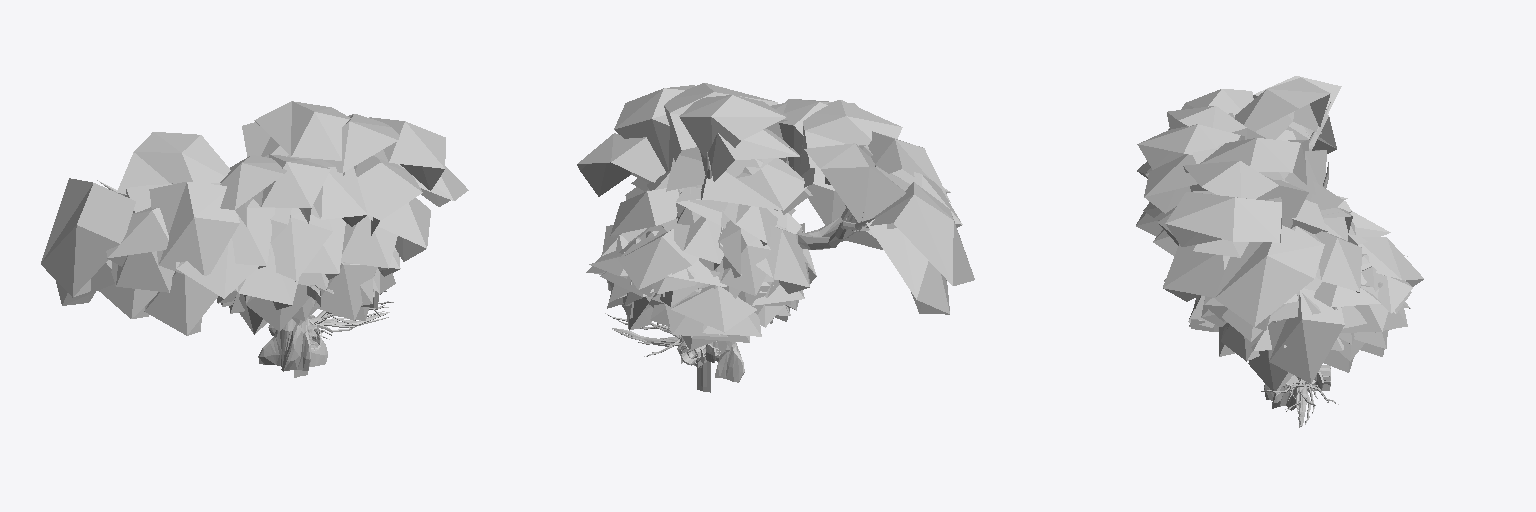
File: tree.obj
3 renders of one model, left to right at view 1: azimuth 30°, elevation 25°; view 2: azimuth 150°, elevation 25°; view 3: azimuth 270°, elevation 25°, orthographic.
Parts seen in each view (by area): view 1: Plane.864_Plane.004, Plane.1060_Plane.003, branchmaster; view 2: Plane.864_Plane.004, Plane.1060_Plane.003, Plane.1000_Plane.024, branchmaster; view 3: Plane.864_Plane.004, Plane.1060_Plane.003, Plane.1000_Plane.024, branchmaster.
Part boxes in pixels (bbox=[...]): Plane.864_Plane.004: bbox=[41, 101, 468, 335]; Plane.1060_Plane.003: bbox=[218, 248, 399, 334]; branchmaster: bbox=[97, 180, 327, 371]; Plane.864_Plane.004: bbox=[577, 83, 974, 314]; Plane.1060_Plane.003: bbox=[607, 170, 816, 330]; Plane.1000_Plane.024: bbox=[586, 225, 804, 350]; branchmaster: bbox=[694, 152, 875, 382]; Plane.864_Plane.004: bbox=[1136, 76, 1343, 330]; Plane.1060_Plane.003: bbox=[1188, 196, 1423, 393]; Plane.1000_Plane.024: bbox=[1251, 254, 1412, 361]; branchmaster: bbox=[1264, 102, 1330, 410].
Size of the model in its own units: 19.18 by 12.92 by 12.01.